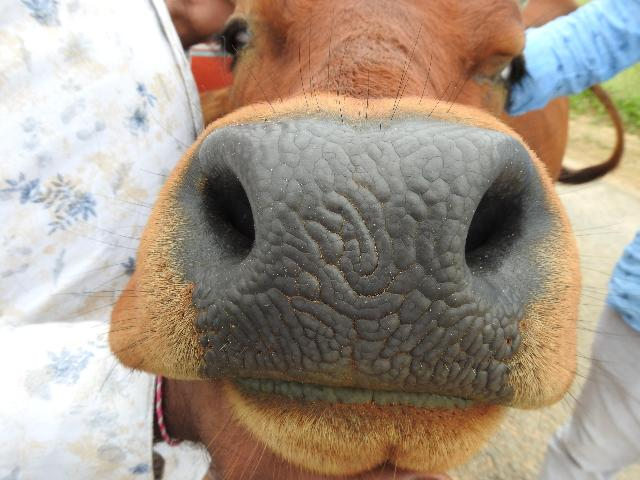Muzzle: (238, 128, 460, 382)
